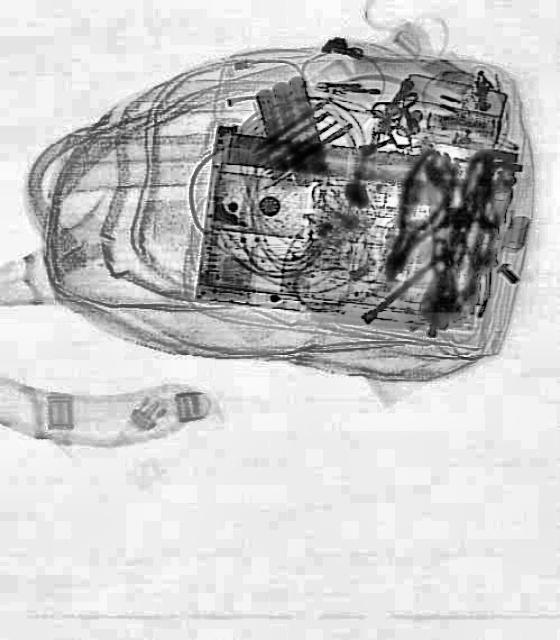Pliers: (361, 142, 467, 292)
